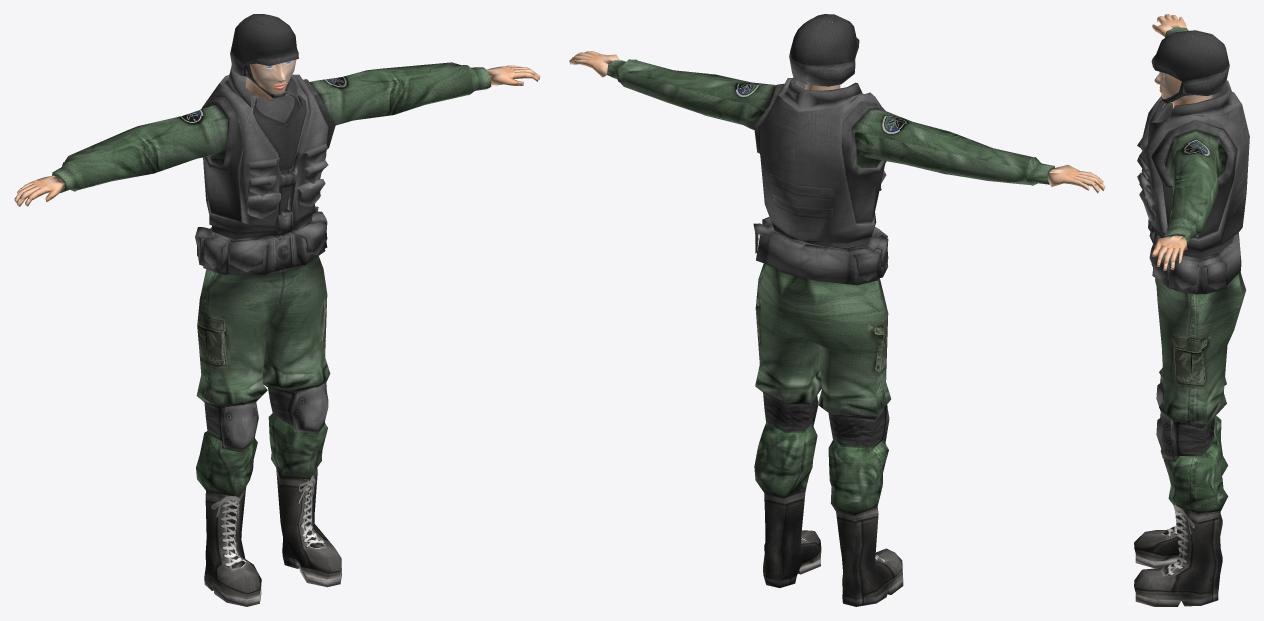
Rendered from FemaleShirt.FBX.
3 views of the same model, side by side, from view 1: azimuth 30°, elevation 25°; view 2: azimuth 150°, elevation 25°; view 3: azimuth 270°, elevation 25° (orthographic). The views are drawn at different scales.
Visible parts, largest first — view 1: Shirt_Fema; view 2: Shirt_Fema; view 3: Shirt_Fema.
Boxes of the visible parts, x1,y1,x2,y2 form: Shirt_Fema: [14, 14, 540, 606]; Shirt_Fema: [569, 14, 1105, 606]; Shirt_Fema: [1134, 14, 1249, 606].
Bounding box in the file's own units: 448 × 455 × 87.5.
Materials: 3 (1 with a texture image).
